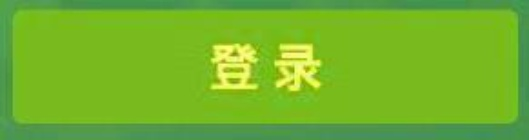Button: (1, 1, 528, 139)
